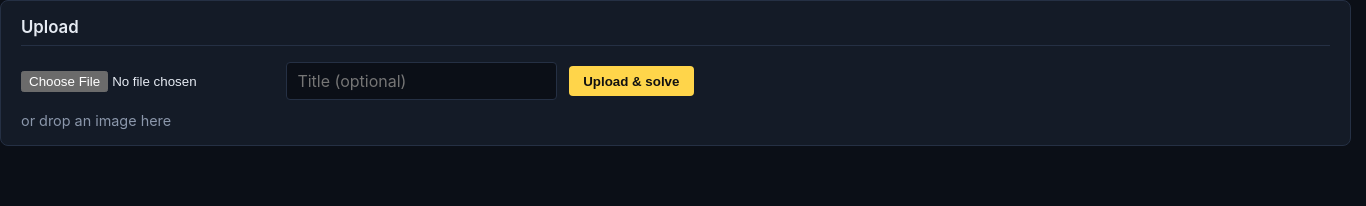
Scenario: UploadPanel cancel (#80) › shows Cancel while bytes go out, aborts on click and clears the panel without an error
Submit the form, box [21,62,694,100]
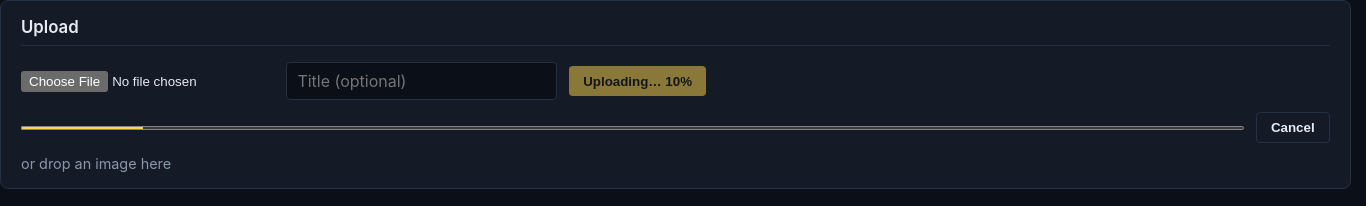
Result: the button "Uploading… 10%" is shown at [569,66,706,96]
Click the button "Cancel" at [1293, 128], box [1256,112,1330,143]
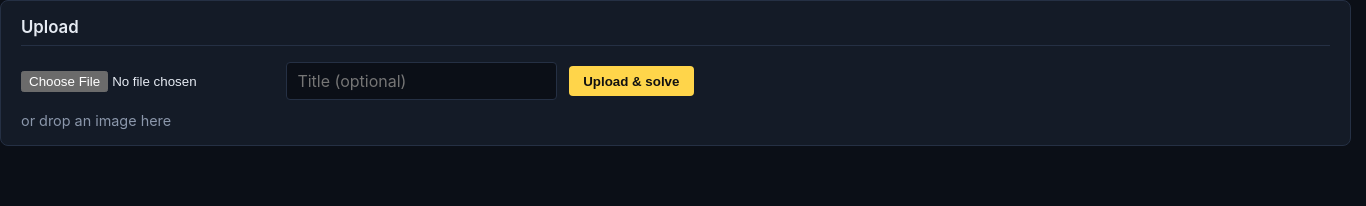
Result: the button "Upload & solve" is shown at [569,66,694,96]
Result: the button "Cancel" is gone
